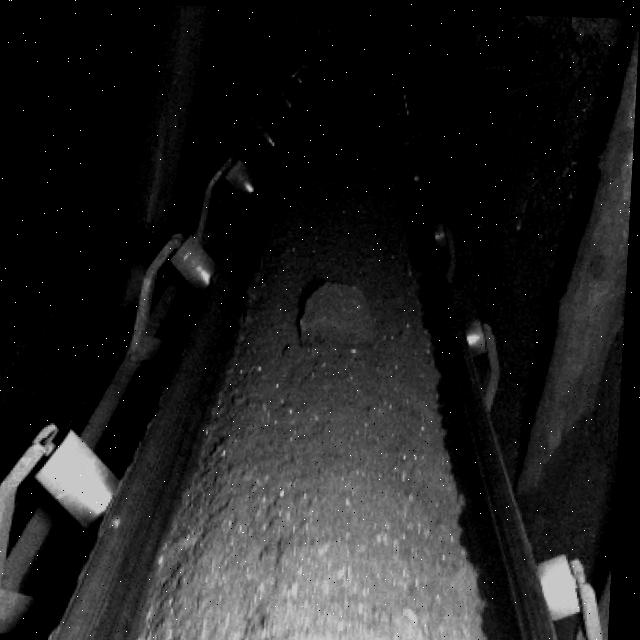large_sized_coal: (301, 278, 382, 348)
